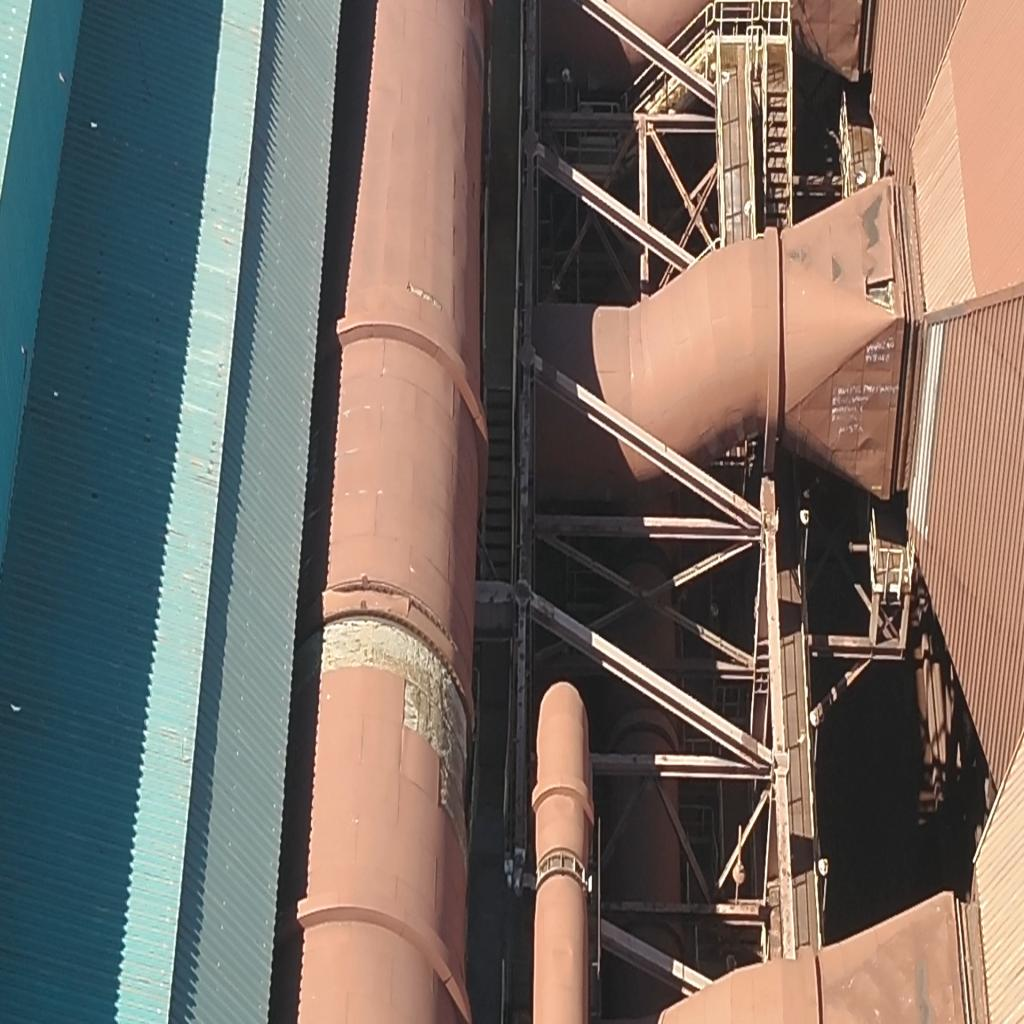Failures: (295, 602, 468, 839), (863, 274, 902, 320)
